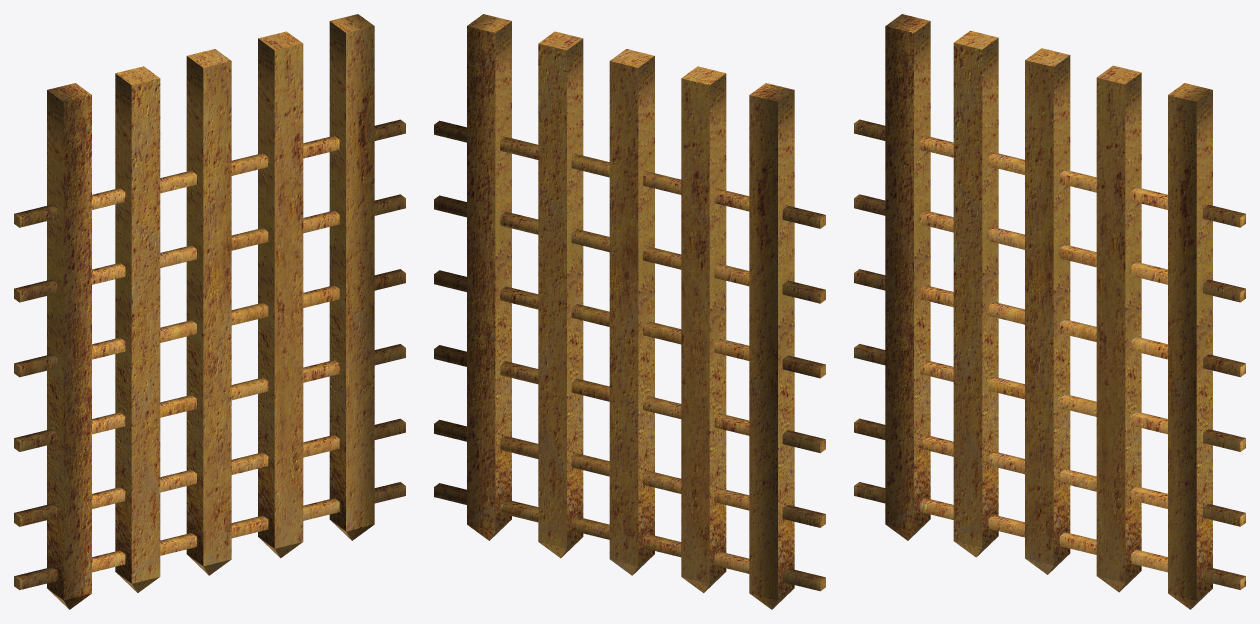
Rendered from TUT_Portculis.FBX.
3 views of the same model, side by side, from view 1: azimuth 30°, elevation 25°; view 2: azimuth 150°, elevation 25°; view 3: azimuth 330°, elevation 25° (orthographic).
Parts seen in each view (by area): view 1: Box012; view 2: Box012; view 3: Box012.
Boxes of the visible parts, x1=… form: Box012: x1=14, y1=14, x2=405, y2=609; Box012: x1=434, y1=14, x2=825, y2=609; Box012: x1=854, y1=14, x2=1245, y2=609.
Size of the model in its own units: 325 by 415 by 24.
